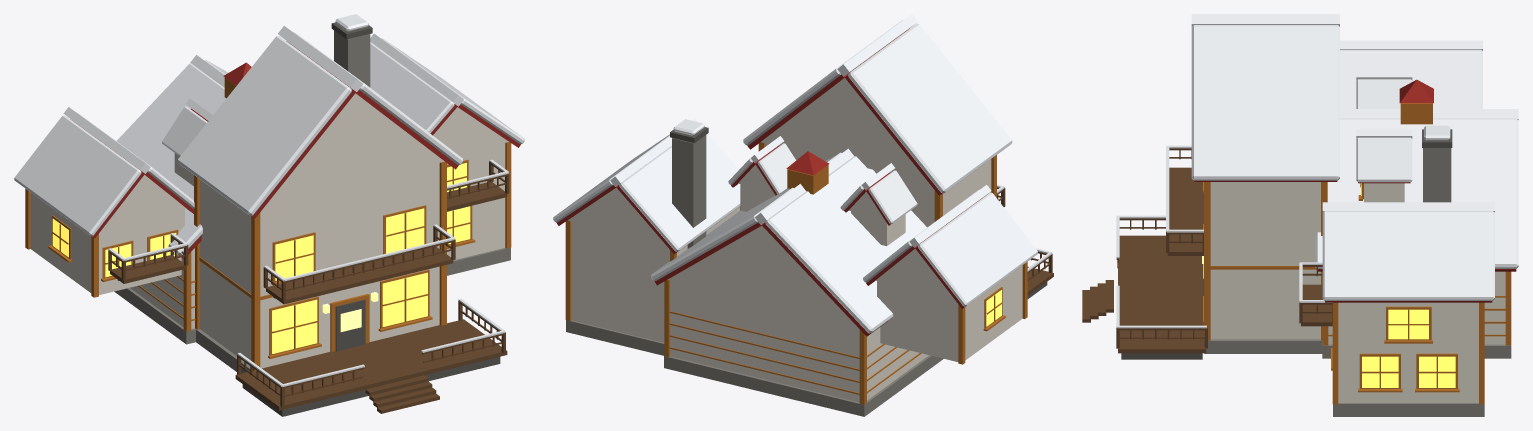
Rendered from lodge-tier-2-sugarhouse.glb.
3 views of the same model, side by side, from view 1: azimuth 30°, elevation 25°; view 2: azimuth 150°, elevation 25°; view 3: azimuth 270°, elevation 25° (orthographic). The views are drawn at different scales.
Parts seen in each view (by area): view 1: lodge-tier-2-sugarhouse; view 2: lodge-tier-2-sugarhouse; view 3: lodge-tier-2-sugarhouse.
Part boxes in pixels (x1=…): lodge-tier-2-sugarhouse: x1=14, y1=14, x2=524, y2=416; lodge-tier-2-sugarhouse: x1=553, y1=14, x2=1053, y2=416; lodge-tier-2-sugarhouse: x1=1082, y1=14, x2=1518, y2=416.
Bounding box in the file's own units: 25.07 × 15.95 × 21.45.
